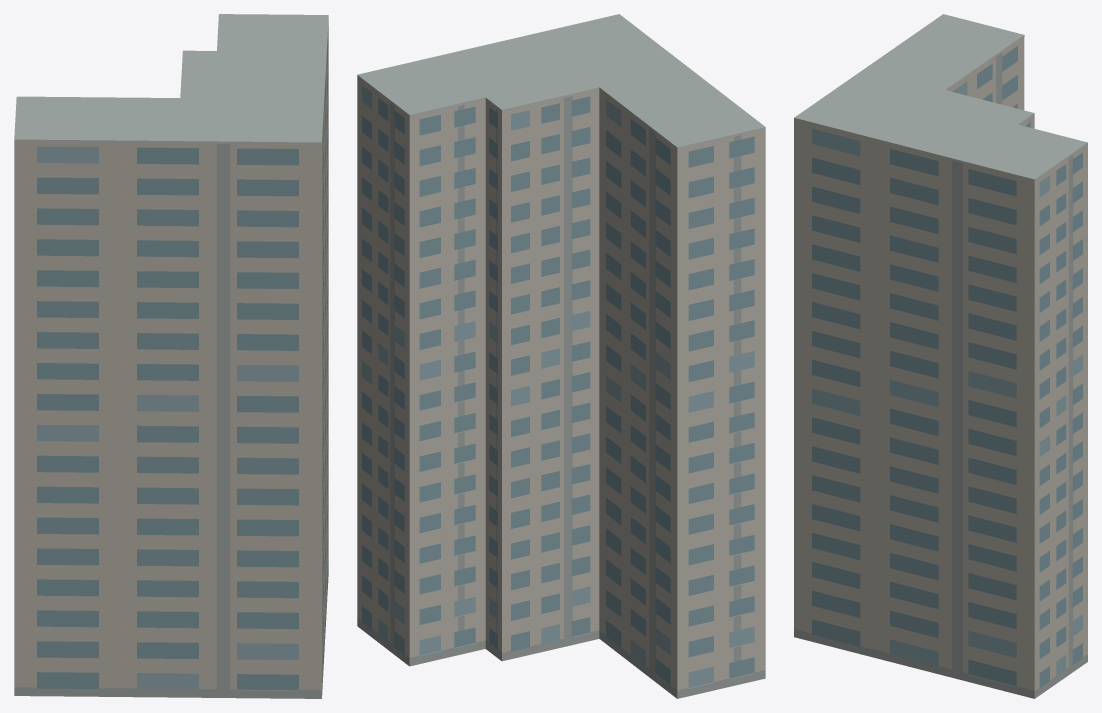
Rendered from residential-aa0e8211-88be-417a-88b3-be1ac0d980d9.glb.
3 renders of one model, left to right at view 1: azimuth 30°, elevation 25°; view 2: azimuth 150°, elevation 25°; view 3: azimuth 270°, elevation 25°, orthographic. The views are drawn at different scales.
Visible parts, largest first — view 1: residential-aa0e8211-88be-417a-88b3-be1ac0d980d9.tmp; view 2: residential-aa0e8211-88be-417a-88b3-be1ac0d980d9.tmp; view 3: residential-aa0e8211-88be-417a-88b3-be1ac0d980d9.tmp.
Boxes of the visible parts, <box> form: residential-aa0e8211-88be-417a-88b3-be1ac0d980d9.tmp: <box>14,14,328,698</box>; residential-aa0e8211-88be-417a-88b3-be1ac0d980d9.tmp: <box>357,14,765,698</box>; residential-aa0e8211-88be-417a-88b3-be1ac0d980d9.tmp: <box>794,14,1087,698</box>.
Size of the model in its own units: 37.59 by 55 by 28.21.
